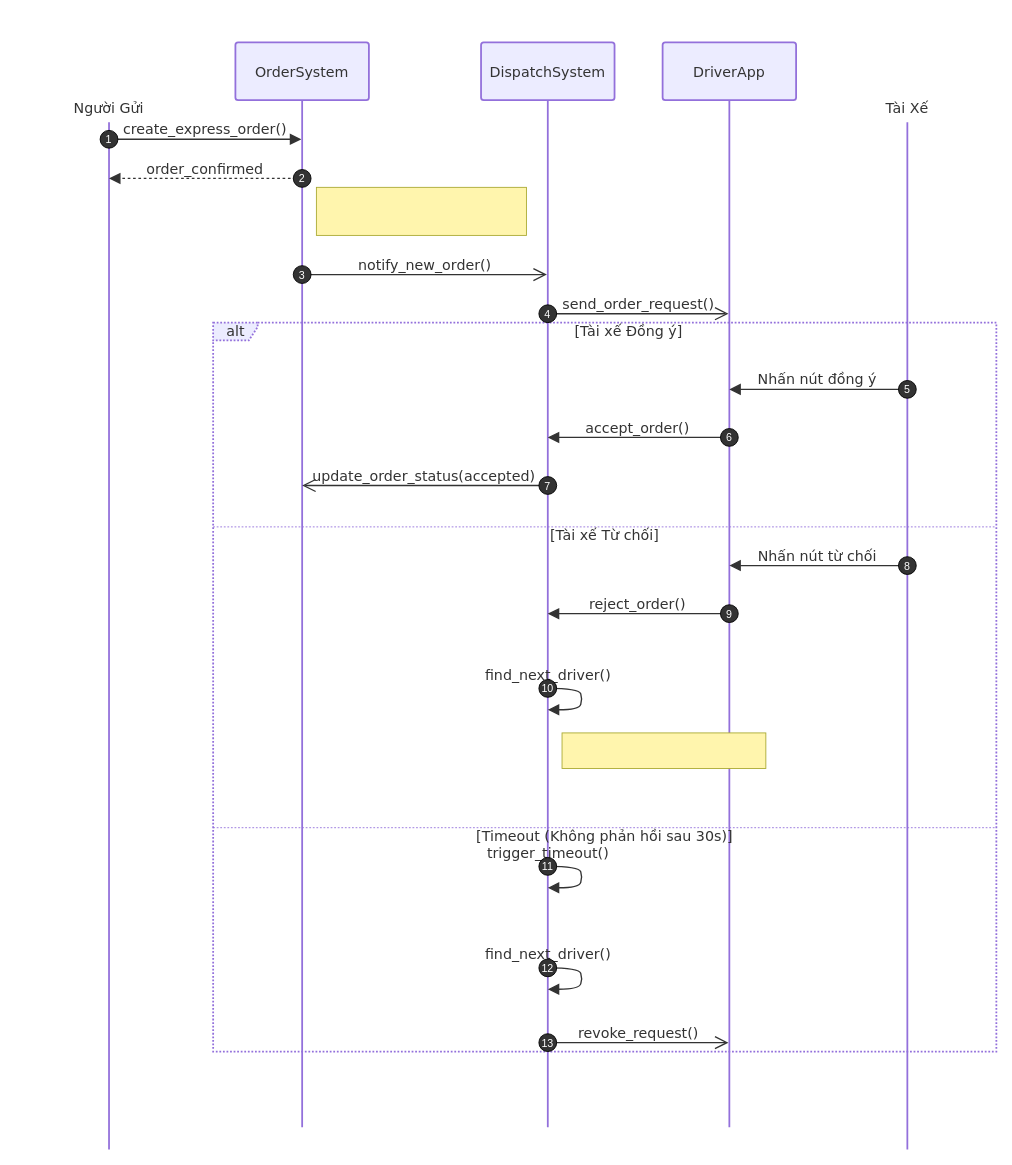
This 1012x1165 diagram has some shape labels left out. Here are the shapes that lost their labels. From the top down, the centre of each, then its label:
At (421,210): "Trả kết quả ngay cho Người gửi để không làm chậm trải nghiệm".
At (663,750): "Kích hoạt bẫy dữ liệu timeout".
